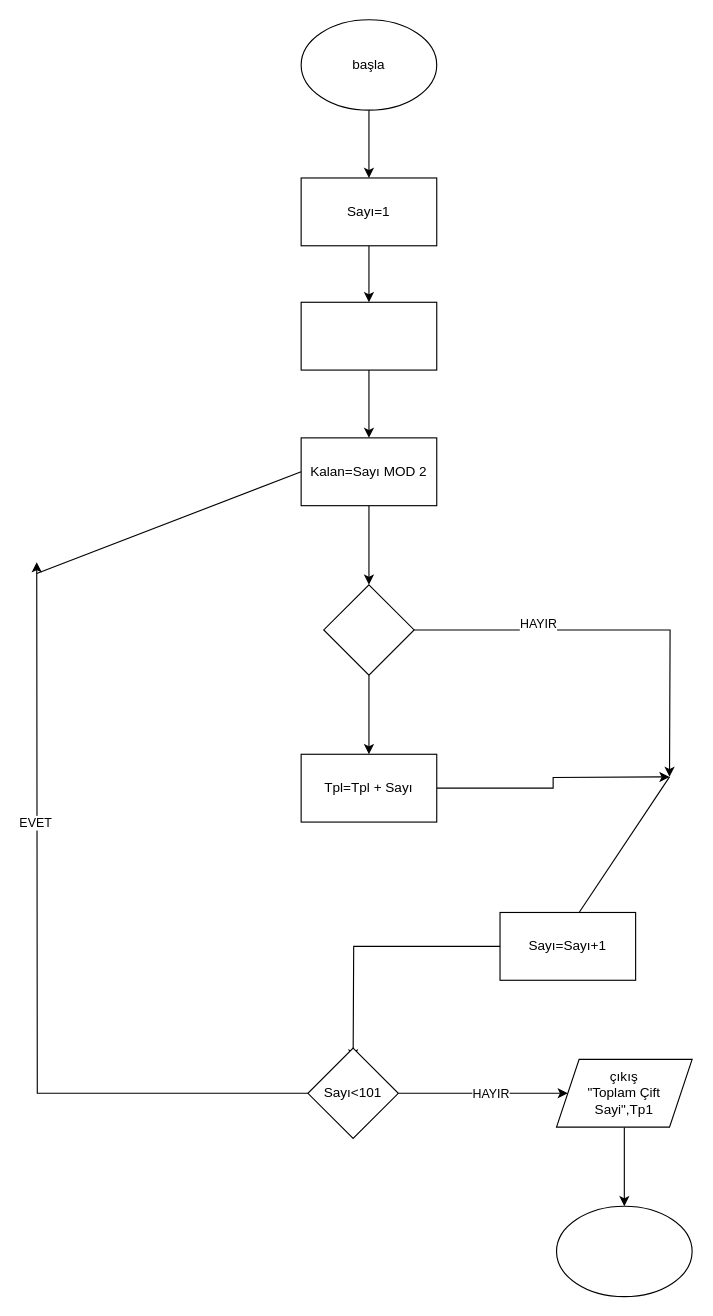
Some shapes in this 713 by 1316 pixel diagram are drawn without their labels. Each missing label, with the box of its shape:
dur: (555, 1205, 692, 1297)
Kalan=0: (323, 584, 414, 675)
Tpl=0: (300, 301, 437, 370)
